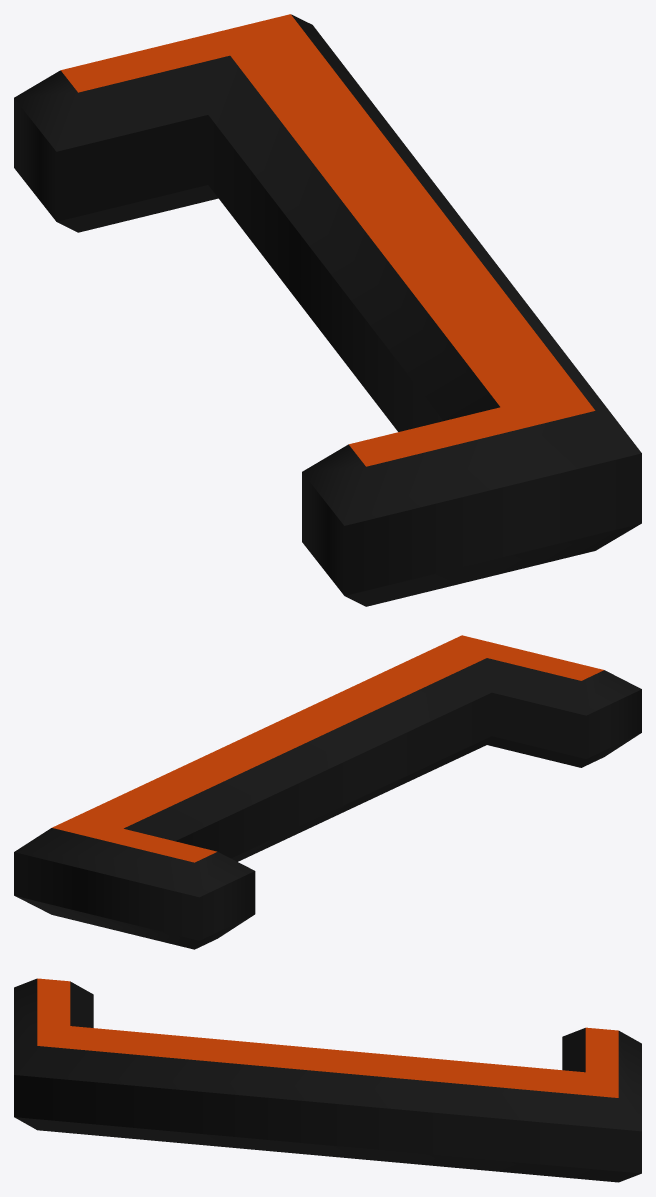
The model's file is CrochetFermant.fbx.
3 renders of one model, top to bottom at view 1: azimuth 30°, elevation 25°; view 2: azimuth 150°, elevation 25°; view 3: azimuth 270°, elevation 25°, orthographic. The views are drawn at different scales.
Visible parts, largest first — view 1: Text; view 2: Text; view 3: Text.
Part boxes in pixels (x1,y1,x2,y2): Text: (14,14,641,606); Text: (14,635,641,949); Text: (14,978,641,1182).
Size of the model in its own units: 0.5851 by 0.16 by 1.08.
